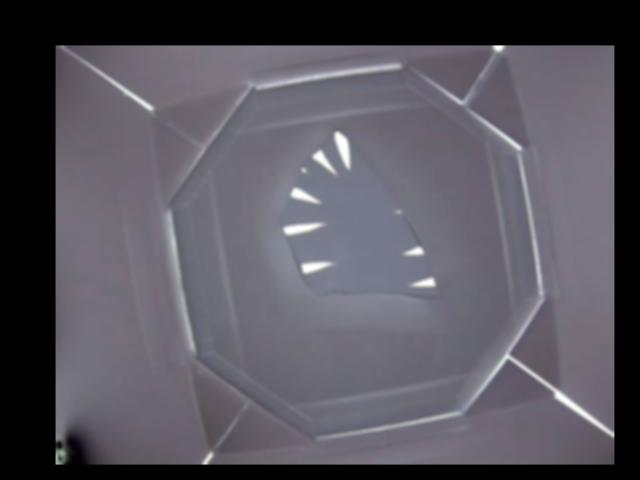China: (279, 126, 442, 300)
